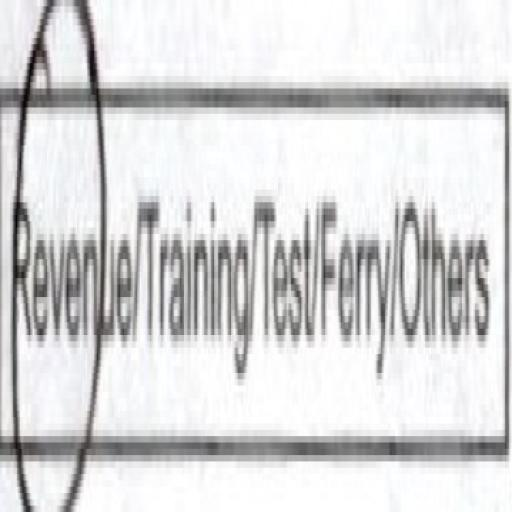check: (2, 0, 132, 512)
